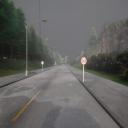speed_limit_90: (81, 57, 87, 65)
